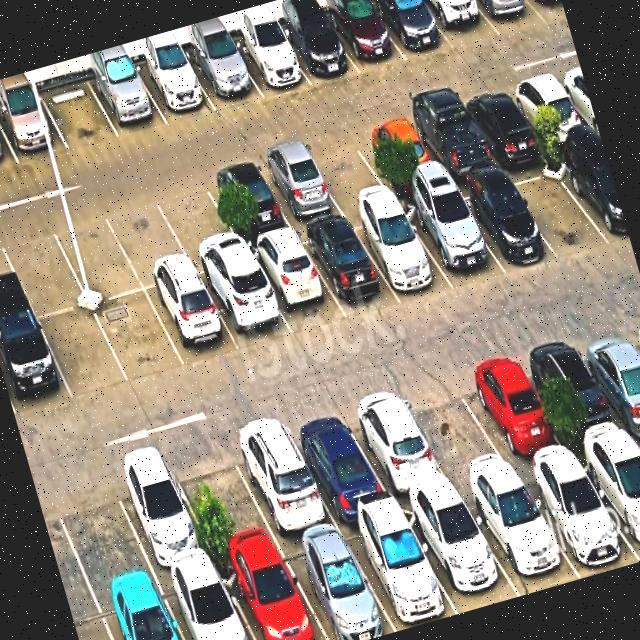empty: (393, 366, 516, 491), (163, 435, 278, 560), (45, 464, 154, 595), (501, 154, 610, 255), (151, 175, 247, 274), (47, 205, 143, 303), (103, 192, 196, 289), (92, 289, 185, 384), (38, 305, 129, 400), (0, 220, 88, 317), (301, 133, 391, 210), (38, 77, 119, 149)
occupied: (223, 413, 337, 541), (518, 459, 640, 578), (454, 349, 571, 473), (460, 475, 580, 595), (339, 509, 457, 631), (104, 449, 215, 576), (401, 494, 519, 613), (338, 384, 455, 503), (281, 402, 394, 524), (521, 331, 632, 453), (277, 528, 395, 640), (216, 545, 327, 640), (246, 232, 346, 337), (448, 174, 555, 272), (399, 190, 505, 288), (297, 217, 399, 318), (348, 204, 453, 300), (145, 276, 240, 368), (199, 262, 293, 351), (571, 319, 640, 436), (552, 141, 630, 244), (403, 101, 498, 183), (576, 438, 640, 558), (202, 160, 293, 244), (157, 562, 254, 640), (0, 315, 72, 417), (254, 146, 343, 227), (353, 117, 444, 193), (458, 85, 545, 162), (505, 71, 591, 146), (323, 0, 406, 73), (275, 13, 359, 85), (86, 65, 167, 137), (133, 54, 216, 124), (95, 578, 184, 640), (229, 30, 310, 96), (185, 42, 262, 110), (369, 0, 453, 60), (0, 91, 68, 163), (419, 0, 500, 50), (473, 0, 546, 35), (529, 0, 566, 21)
